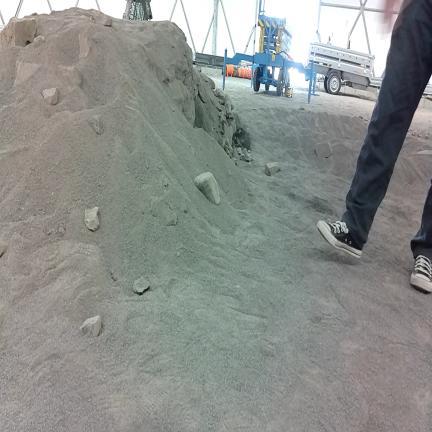Rock: (0, 18, 37, 48), (194, 172, 220, 205), (15, 61, 40, 85), (59, 66, 82, 88), (80, 316, 101, 337), (79, 29, 91, 58), (235, 128, 251, 149), (85, 207, 99, 231), (91, 10, 112, 26), (133, 277, 149, 294), (315, 143, 333, 158), (90, 115, 103, 135), (43, 88, 58, 105), (224, 123, 233, 146), (265, 163, 280, 175), (234, 113, 244, 129), (204, 75, 215, 89), (225, 95, 233, 114), (215, 89, 225, 104), (227, 118, 236, 132), (33, 35, 45, 45), (0, 244, 7, 257), (245, 154, 251, 162), (236, 147, 242, 155), (242, 148, 247, 155), (240, 154, 245, 160), (228, 170, 231, 176)
